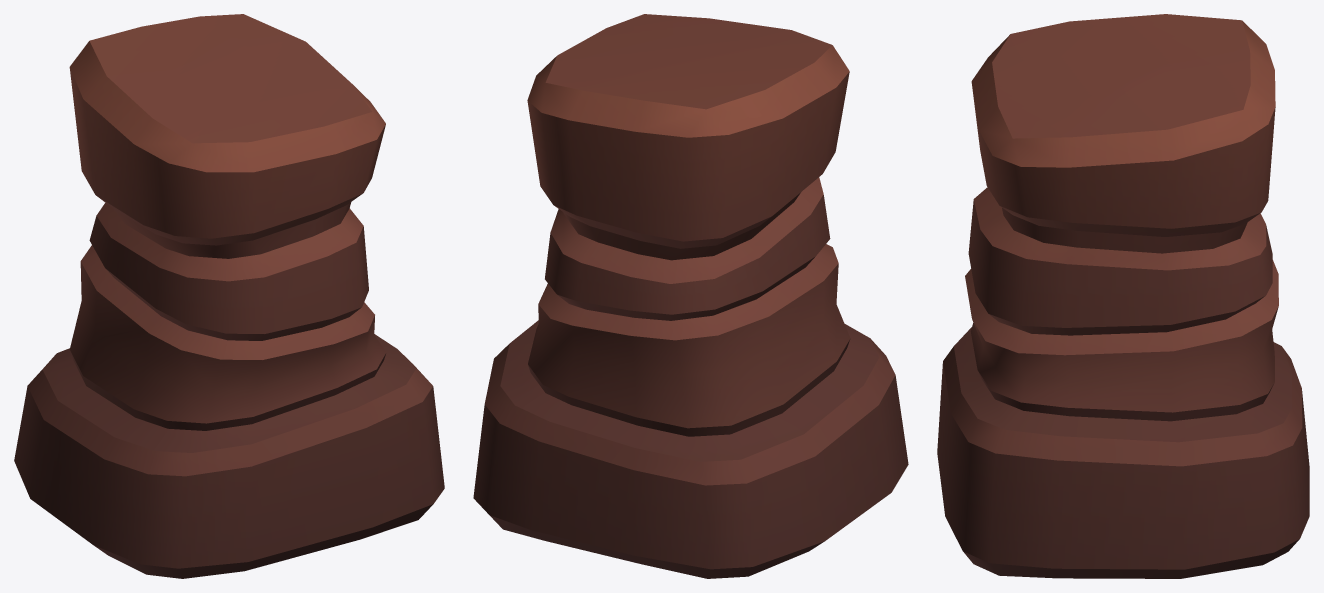
File: rock_big_B_2.glb
3 views of the same model, side by side, from view 1: azimuth 30°, elevation 25°; view 2: azimuth 150°, elevation 25°; view 3: azimuth 270°, elevation 25° (orthographic). The views are drawn at different scales.
Parts seen in each view (by area): view 1: rock_big_B_2; view 2: rock_big_B_2; view 3: rock_big_B_2.
Part boxes in pixels (<box>): rock_big_B_2: <box>14,14,444,578</box>; rock_big_B_2: <box>473,14,908,578</box>; rock_big_B_2: <box>937,14,1309,578</box>.
Size of the model in its own units: 3.61 by 4.5 by 3.41.
1 material, 1 textured.
